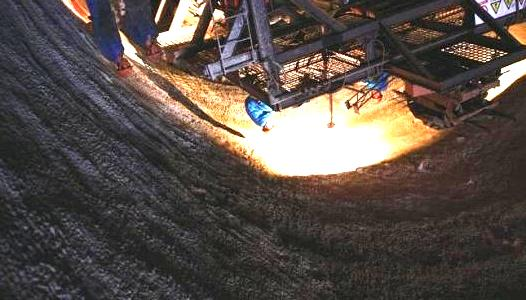helmet: (114, 58, 133, 79), (146, 43, 163, 64), (368, 89, 383, 105), (262, 123, 274, 134)
